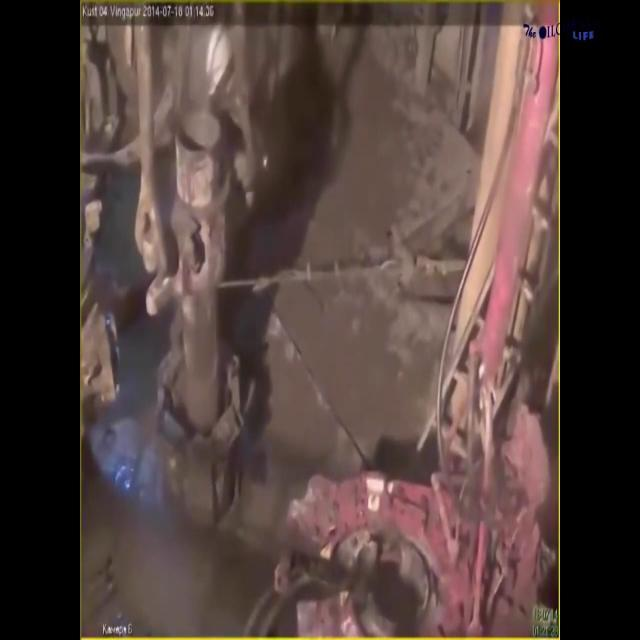spillage: (258, 54, 448, 264), (250, 271, 408, 481), (100, 448, 236, 634)
